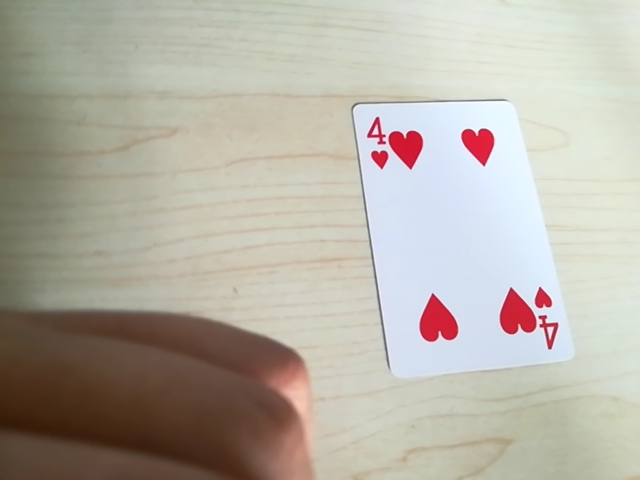hx 4: (361, 115, 417, 178), (520, 286, 561, 353)
